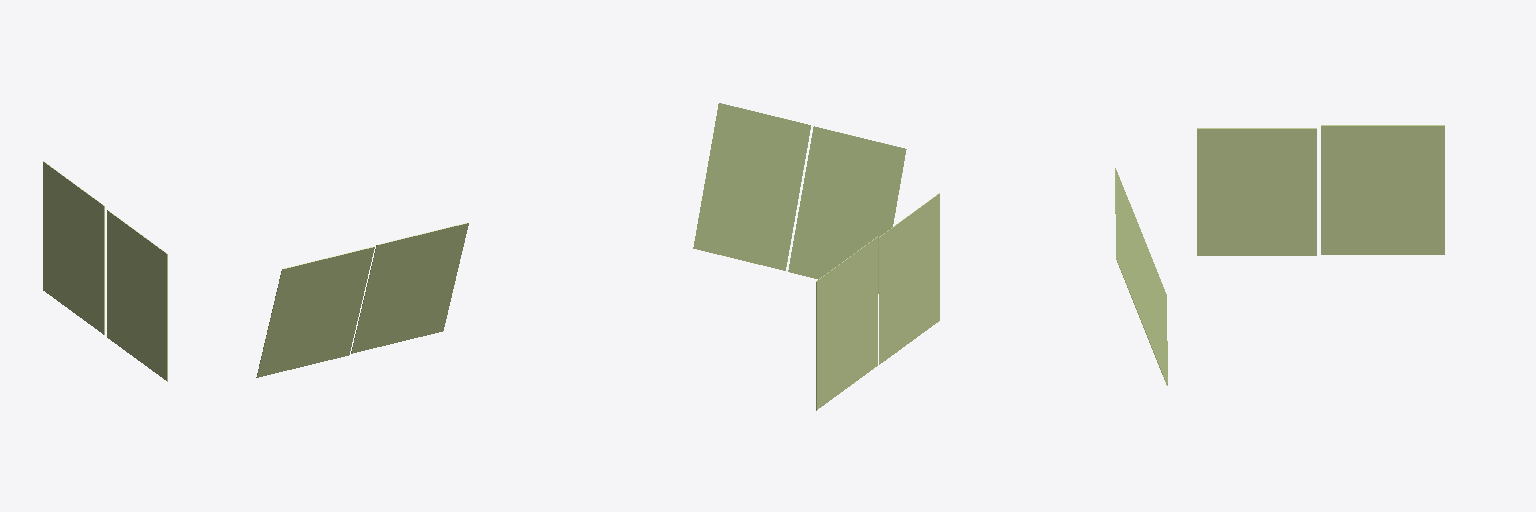
Rendered from OBJ_Vidros.obj.
The picture shows the model from 3 angles: view 1: azimuth 30°, elevation 25°; view 2: azimuth 150°, elevation 25°; view 3: azimuth 270°, elevation 25°; orthographic projection.
Visible parts, largest first — view 1: Box021, Box025, Box027, Box026; view 2: Box025, Box021, Box027, Box026; view 3: Box027, Box026, Box025, Box021.
Part boxes in pixels (left/top/right/bottom): Box021: left=256, top=247, right=374, bottom=377; Box025: left=351, top=223, right=468, bottom=353; Box027: left=43, top=161, right=104, bottom=334; Box026: left=107, top=210, right=167, bottom=381; Box025: left=693, top=103, right=810, bottom=270; Box021: left=788, top=126, right=906, bottom=293; Box027: left=816, top=236, right=877, bottom=410; Box026: left=879, top=193, right=939, bottom=364; Box027: left=1321, top=125, right=1444, bottom=254; Box026: left=1197, top=128, right=1316, bottom=255; Box025: left=1116, top=214, right=1167, bottom=385; Box021: left=1115, top=168, right=1166, bottom=337.
Size of the model in its own units: 2.51 by 1.22 by 2.74.